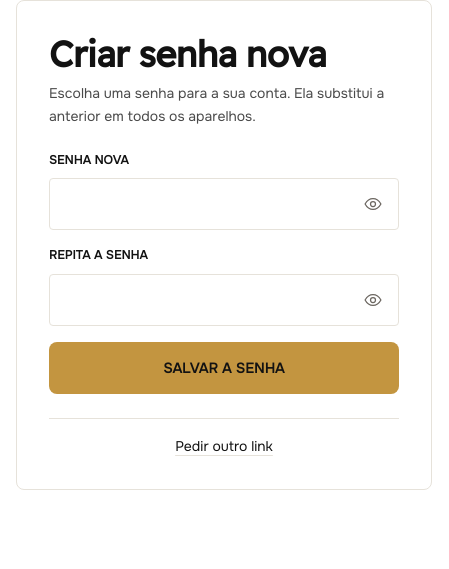
Test: o link vencido devolve a mensagem do servidor, com a saída ao lado
Step 1. Type "senha-nova-bem-longa" into the password field labelled "Senha nova" → (224, 204), box [49,178,399,230]
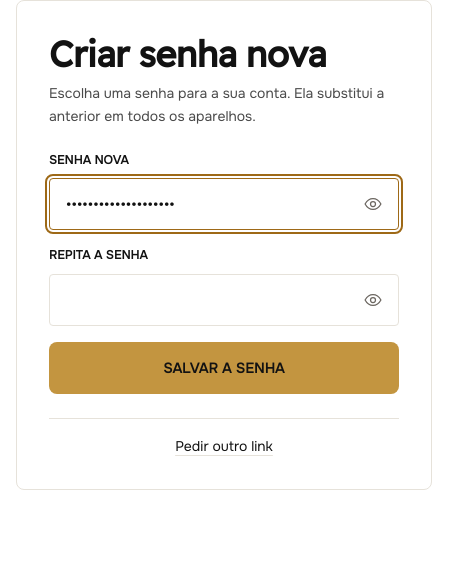
Step 2. Type "senha-nova-bem-longa" into the password field labelled "Repita a senha" → (224, 300), box [49,274,399,326]
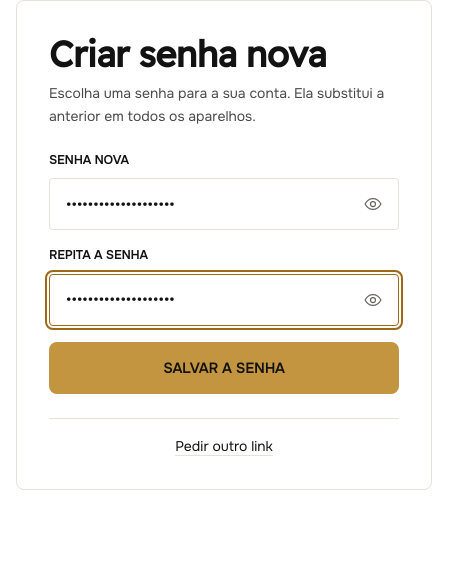
Step 3. Click the button named "Salvar a senha" → (224, 368), box [49,342,399,394]
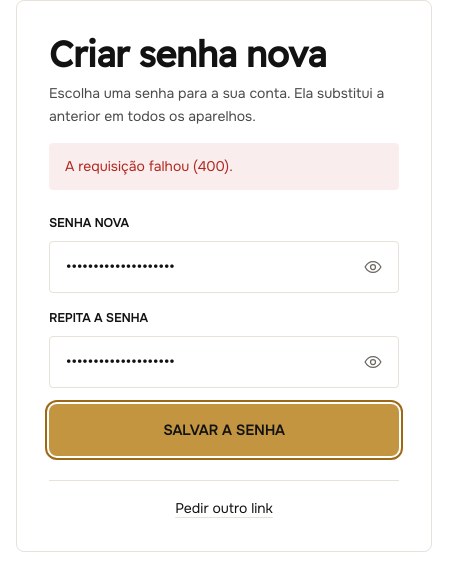
Expected: the link "Pedir outro link" is shown, [175,499,273,517]
Now the message "A requisição falhou (400)." is shown, box [49,143,399,190]
